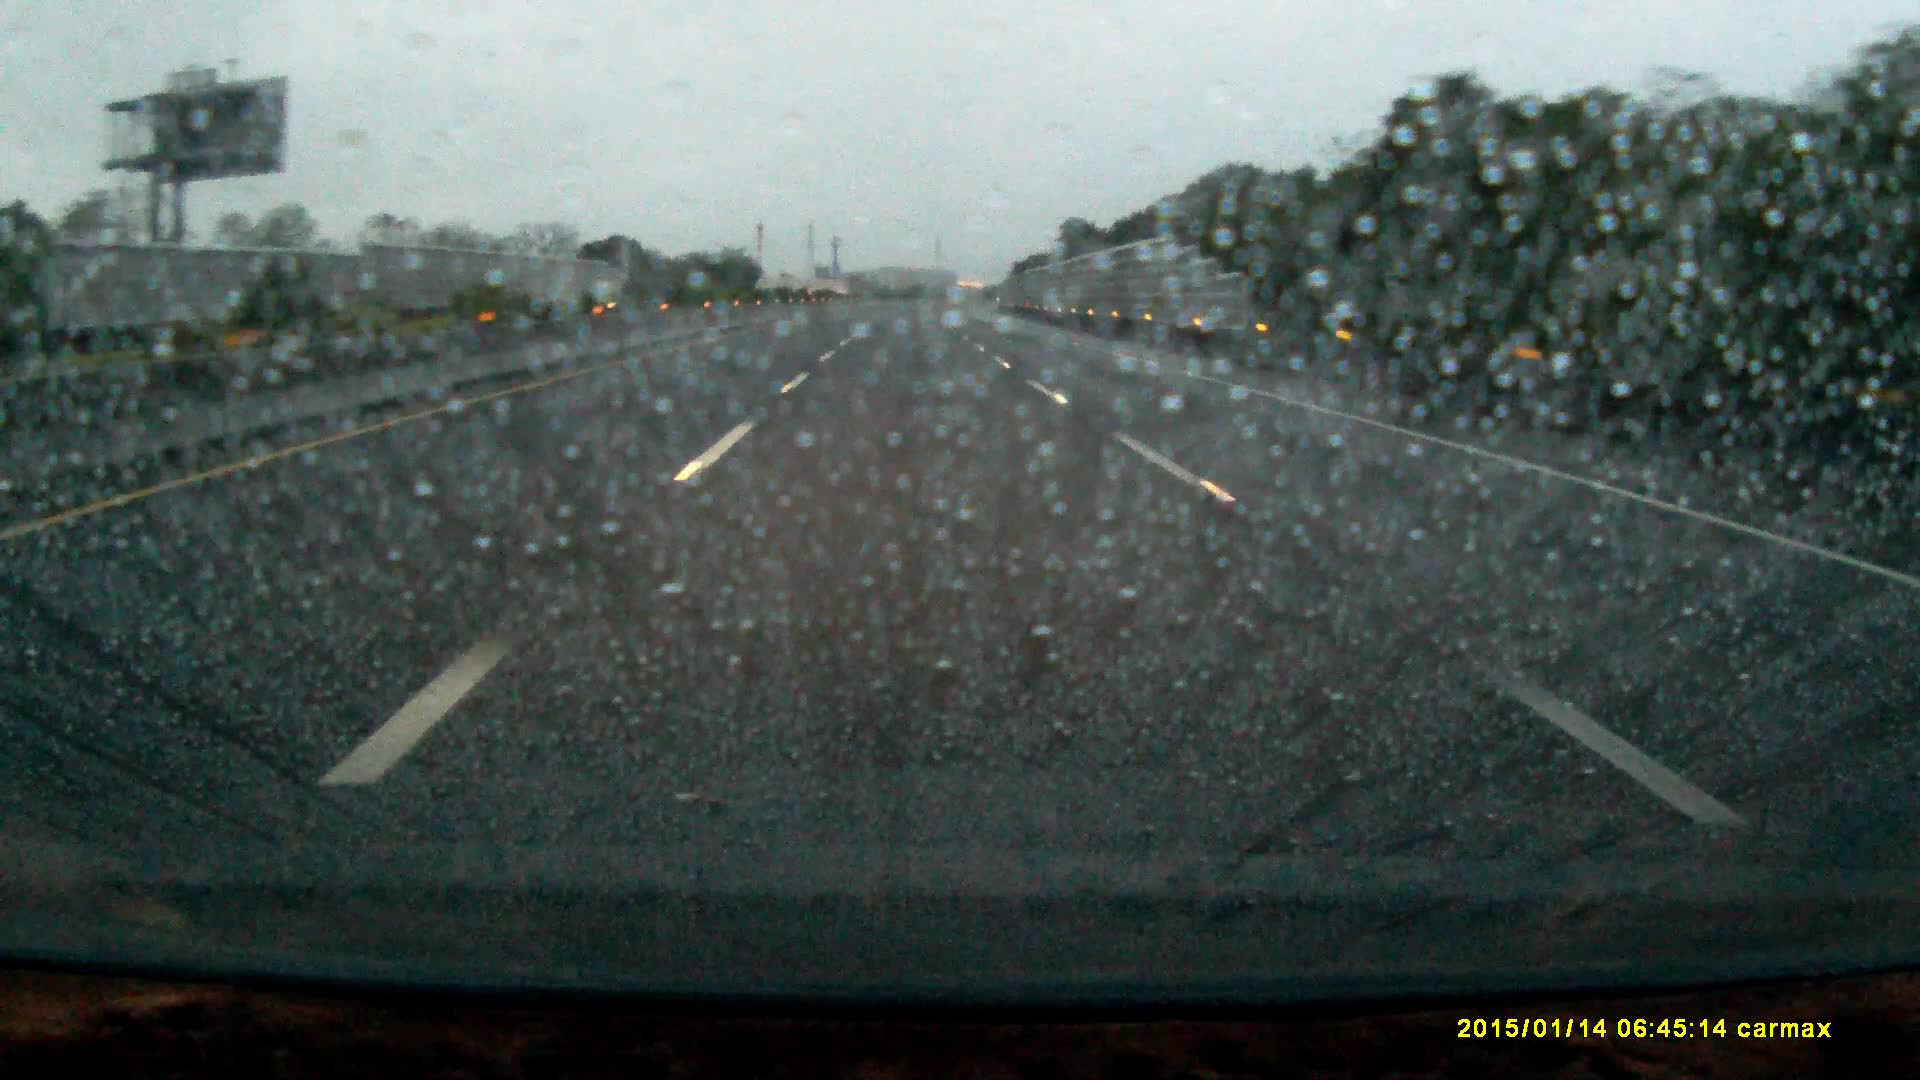vehicle: (574, 282, 636, 309)
